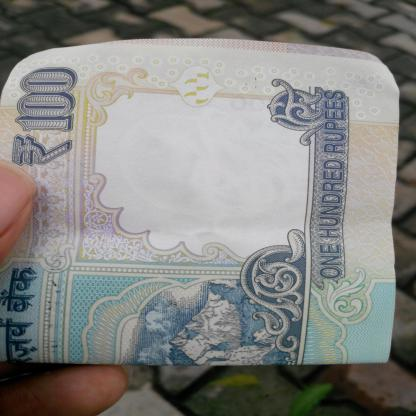Old100Back: (0, 38, 416, 367)
